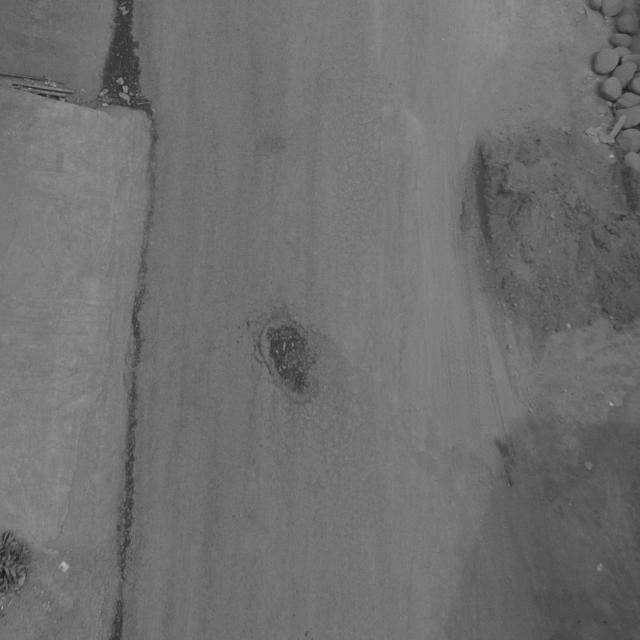BACHE: (257, 319, 324, 402)
GRIETA: (110, 110, 157, 639)
PIEL DE COCODRILO: (306, 397, 387, 565)
